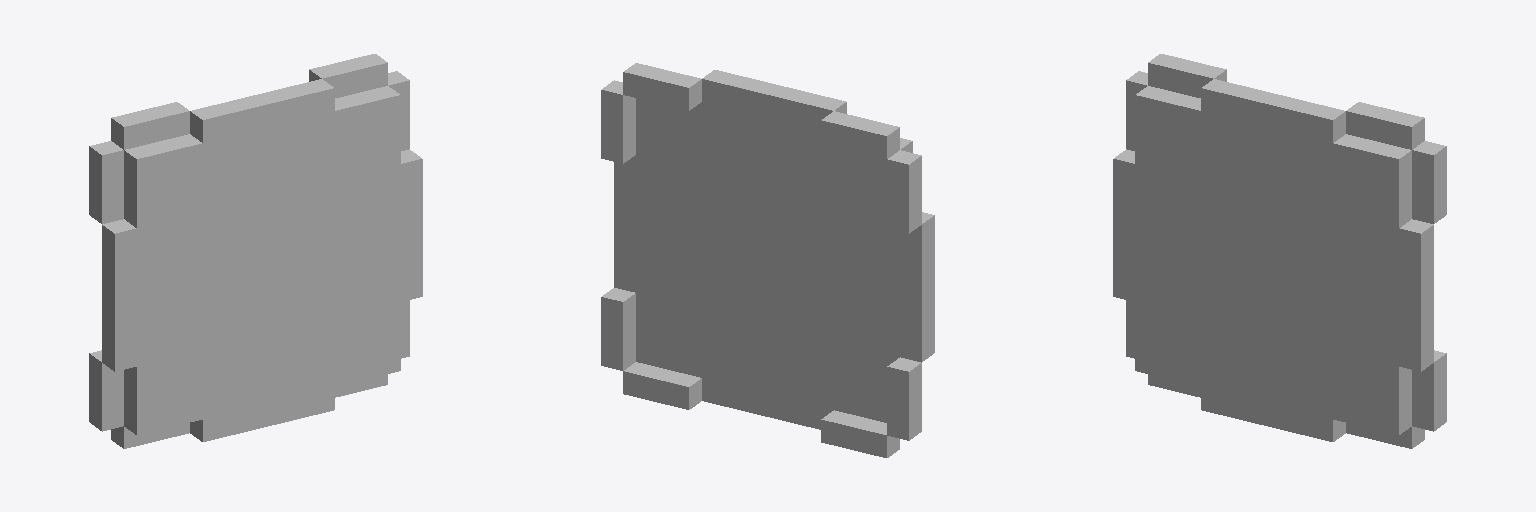
File: side_zp.obj
The picture shows the model from 3 angles: view 1: azimuth 30°, elevation 25°; view 2: azimuth 150°, elevation 25°; view 3: azimuth 330°, elevation 25°; orthographic projection.
Bounding box in the file's own units: 14 × 14 × 2.